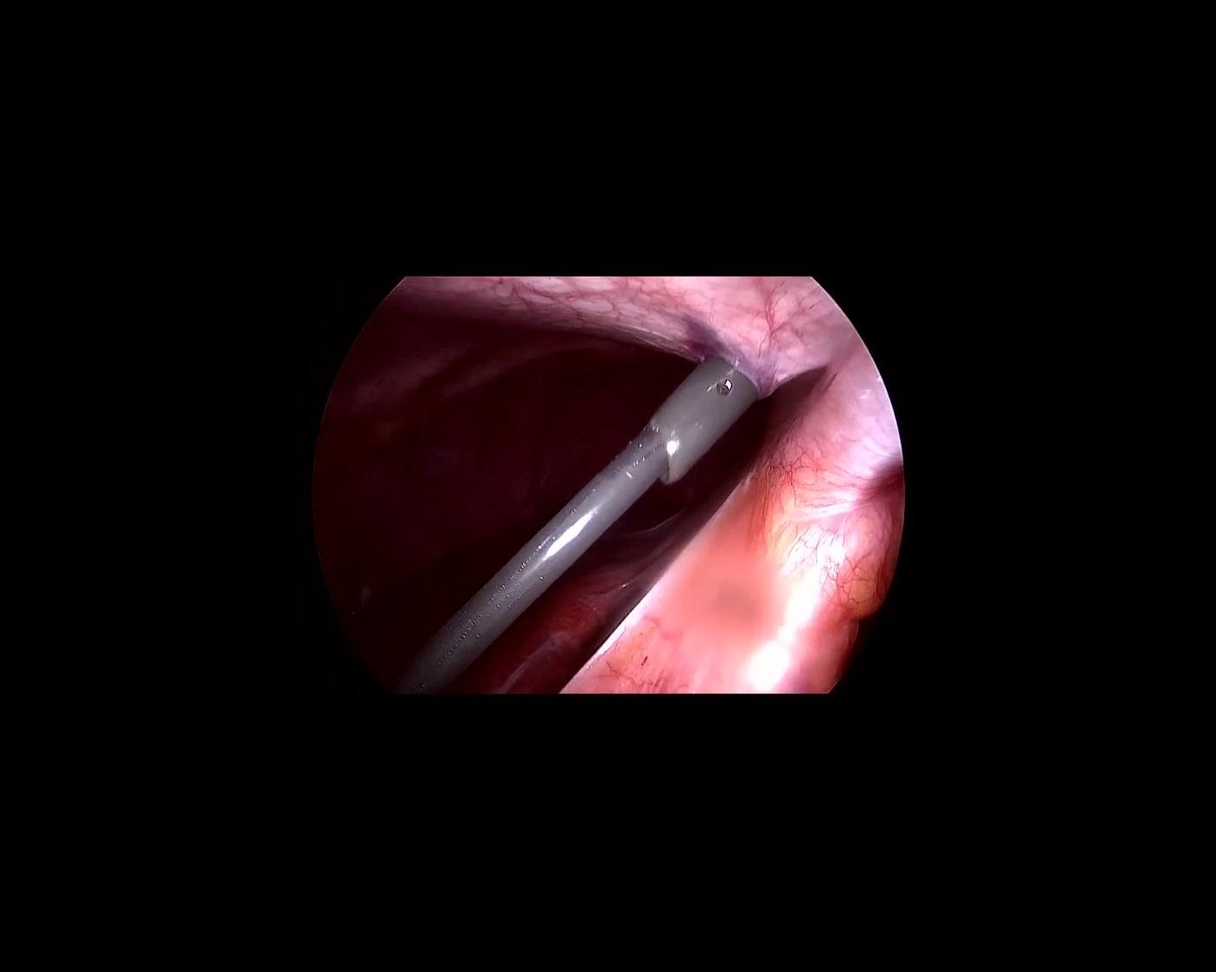Forceps: (382, 423, 686, 720)
